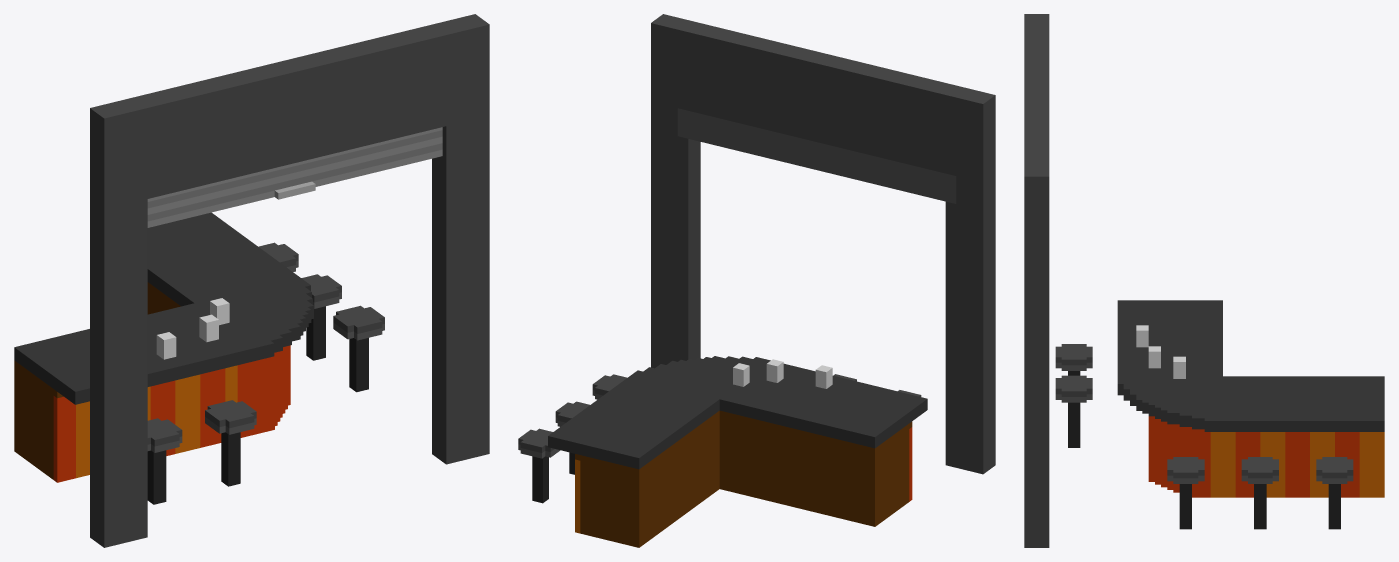
Rendered from barTwo.glb.
The picture shows the model from 3 angles, left to right: view 1: azimuth 30°, elevation 25°; view 2: azimuth 150°, elevation 25°; view 3: azimuth 270°, elevation 25°; orthographic projection. The views are drawn at different scales.
Parts seen in each view (by area): view 1: ObjObject; view 2: ObjObject; view 3: ObjObject.
Part boxes in pixels (x1,y1,x2,y2): ObjObject: [14, 14, 489, 547]; ObjObject: [518, 14, 995, 547]; ObjObject: [1024, 14, 1384, 547].
Bounding box in the file's own units: 6.2 × 6.6 × 5.8.
Materials: 1 (1 with a texture image).
